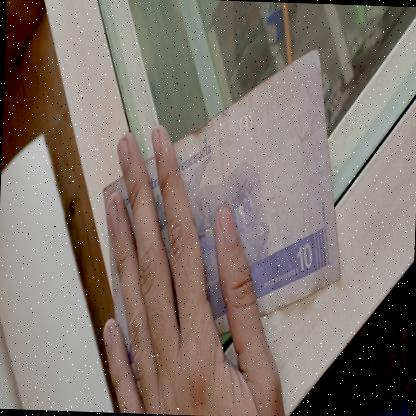ten-back-vef: (96, 42, 348, 384)
